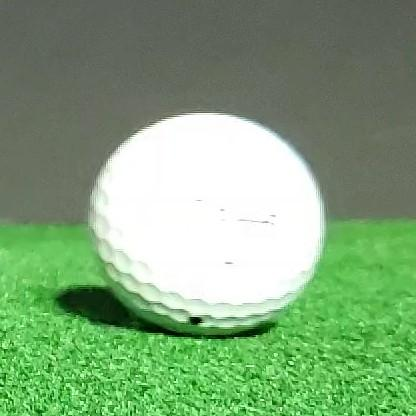golfball: (89, 113, 326, 336)
